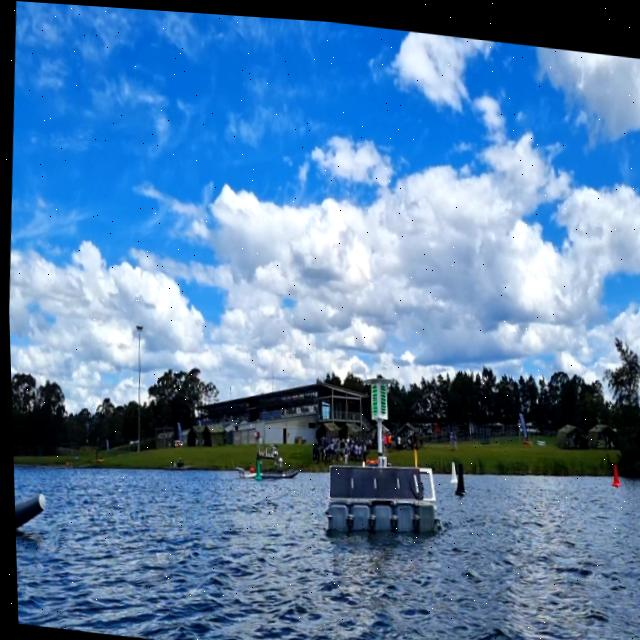led: (376, 379, 386, 412), (368, 380, 377, 409)
